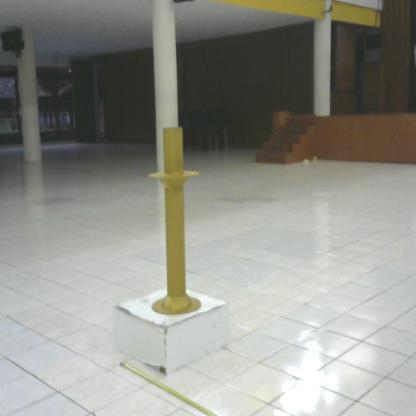pole: (148, 122, 208, 320)
